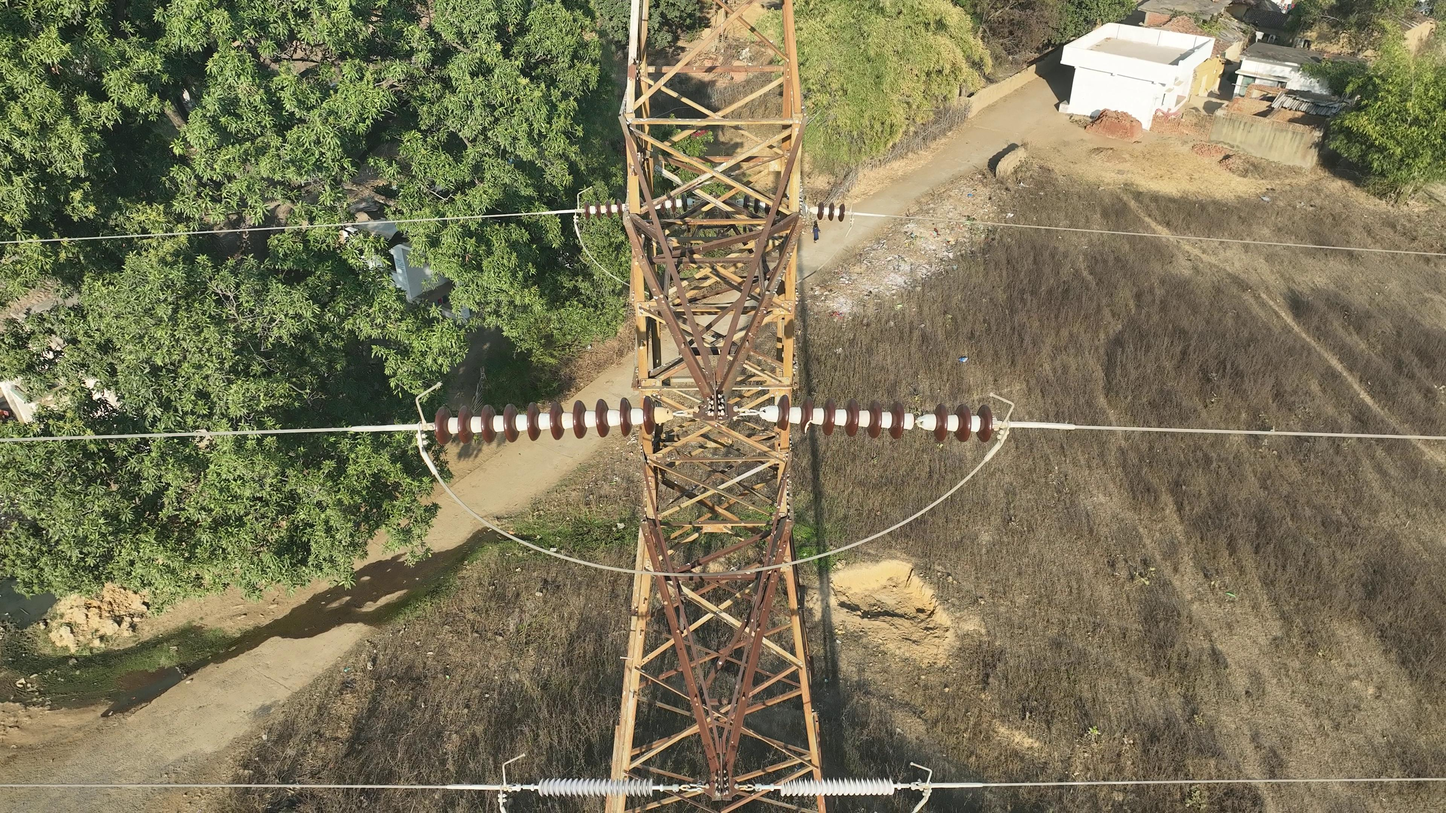broken_insulator: (798, 394, 819, 441)
